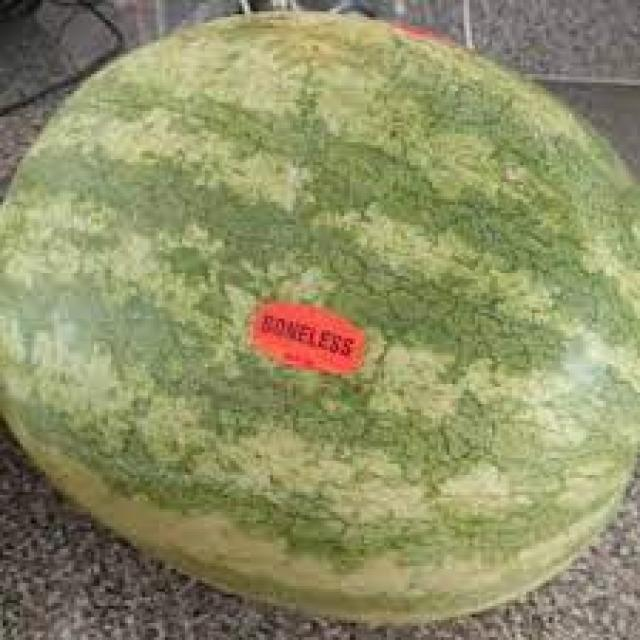watermelon: (0, 6, 637, 626)
